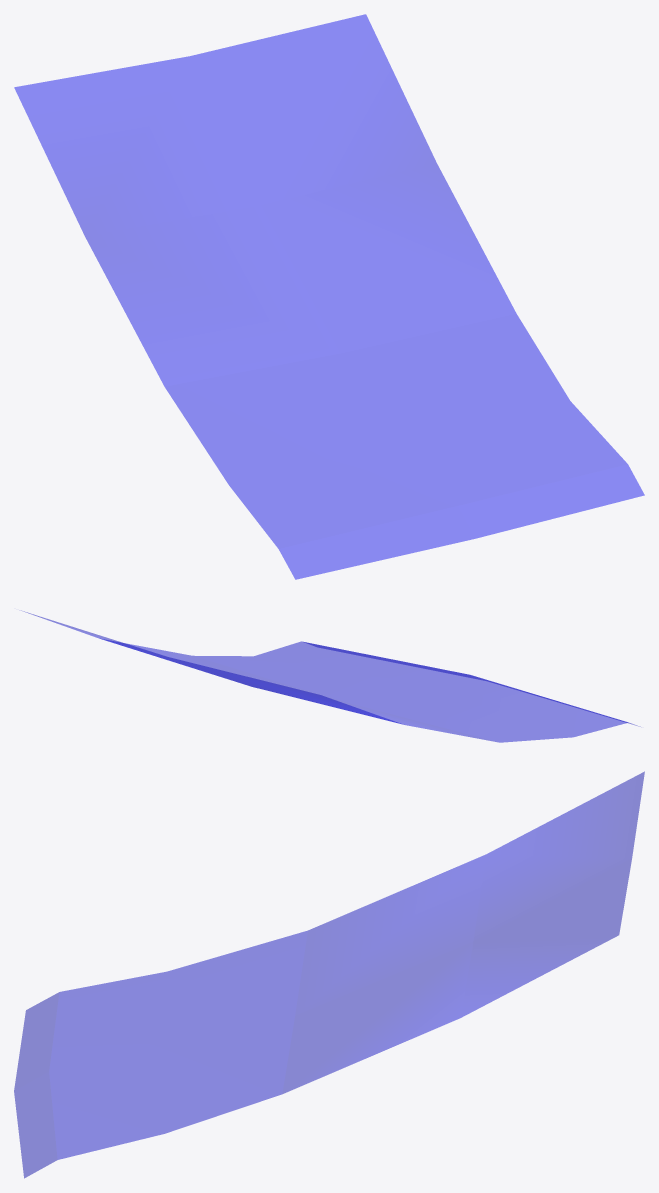
The model's file is track_la_coll_road_33.fbx.
The picture shows the model from 3 angles, top to bottom: view 1: azimuth 30°, elevation 25°; view 2: azimuth 150°, elevation 25°; view 3: azimuth 270°, elevation 25°; orthographic projection. The views are drawn at different scales.
Parts seen in each view (by area): view 1: track_la_coll_road_33; view 2: track_la_coll_road_33; view 3: track_la_coll_road_33.
Boxes of the visible parts, <box> form: track_la_coll_road_33: <box>14,14,644,579</box>; track_la_coll_road_33: <box>21,610,640,742</box>; track_la_coll_road_33: <box>14,771,644,1178</box>.
Bounding box in the file's own units: 28.99 × 19.19 × 43.22.
